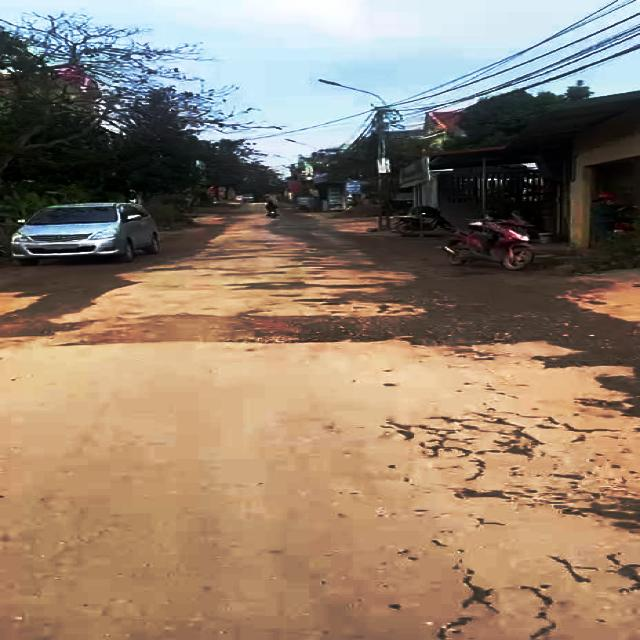pothole: (96, 309, 516, 345), (0, 268, 128, 341), (539, 348, 640, 422)
